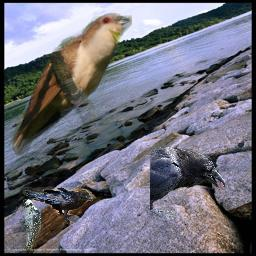Crow: (150, 146, 226, 221), (22, 187, 93, 225)
Cuckoo: (7, 13, 132, 159)
Woodpecker: (22, 199, 41, 251)
